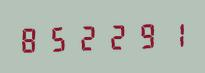eight: (17, 22, 44, 55)
five: (45, 21, 72, 54)
nine: (130, 19, 157, 51)
one: (158, 18, 185, 50)
two: (74, 21, 101, 53), (102, 20, 129, 52)
